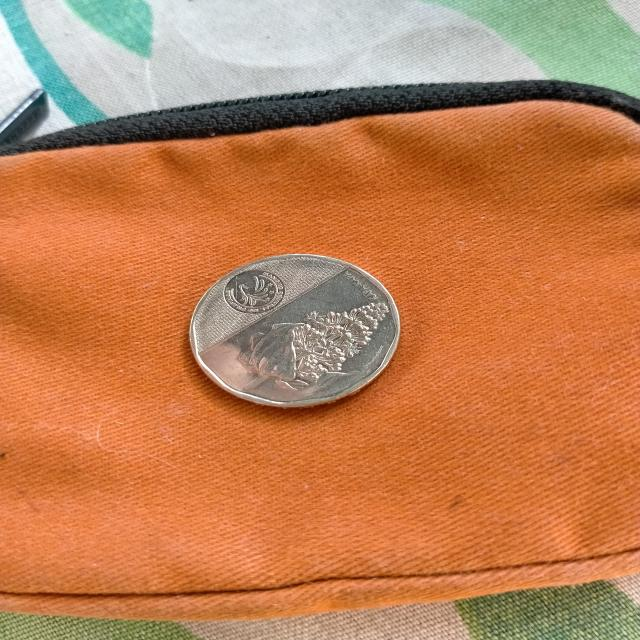10_New_Back: (235, 294, 389, 404)
